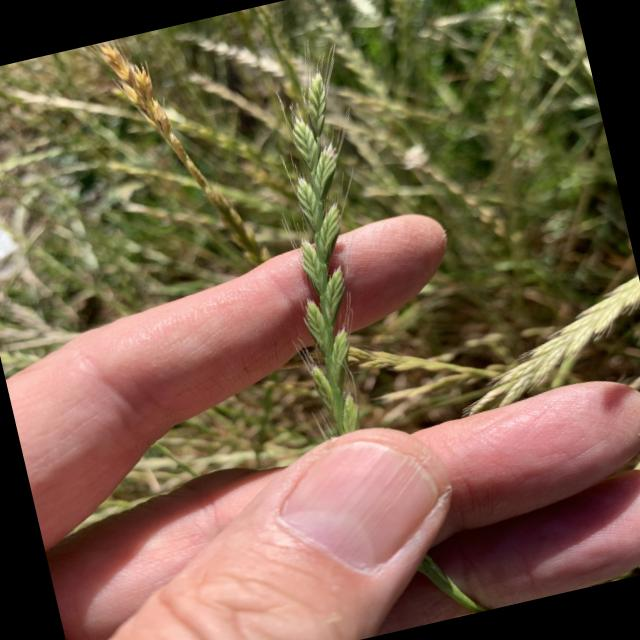Lolium: (223, 32, 426, 444), (90, 19, 270, 292)
